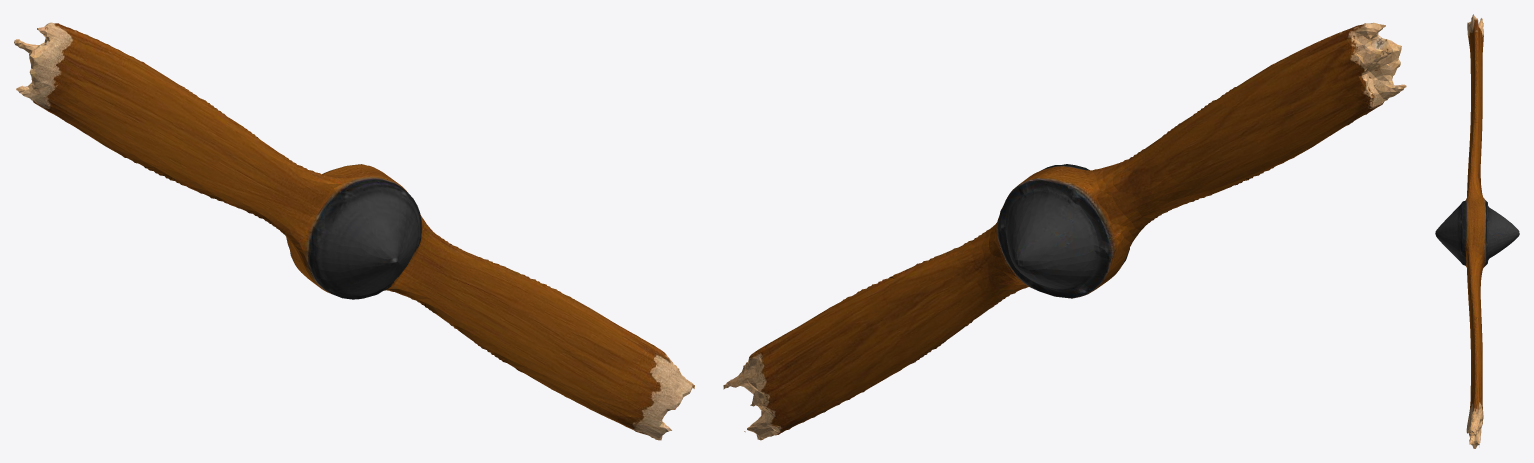
File: propeller_broken.glb
3 renders of one model, left to right at view 1: azimuth 30°, elevation 25°; view 2: azimuth 150°, elevation 25°; view 3: azimuth 270°, elevation 25°, orthographic. The views are drawn at different scales.
Parts seen in each view (by area): view 1: propeller_broken; view 2: propeller_broken; view 3: propeller_broken.
Part boxes in pixels (x1,y1,x2,y2): propeller_broken: [14, 22, 694, 440]; propeller_broken: [723, 22, 1406, 440]; propeller_broken: [1435, 14, 1519, 448].
Bounding box in the file's own units: 1.89 × 1.5 × 0.4065.
Materials: 1 (1 with a texture image).
